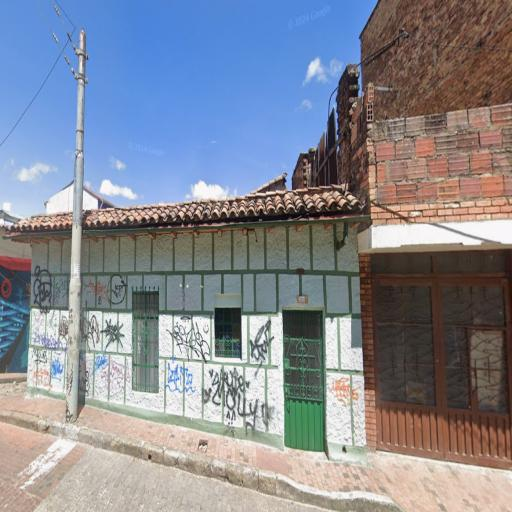Casa: (3, 182, 371, 467), (356, 78, 512, 476)
postes: (50, 2, 90, 427)
